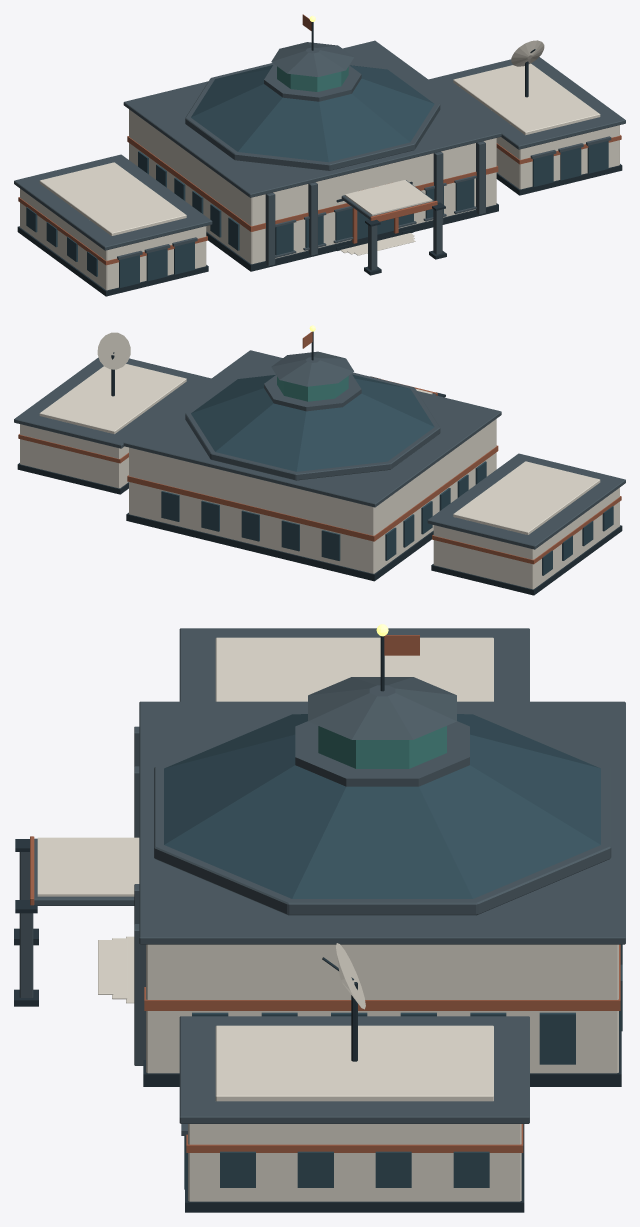
File: townHall.glb
3 renders of one model, top to bottom at view 1: azimuth 30°, elevation 25°; view 2: azimuth 150°, elevation 25°; view 3: azimuth 270°, elevation 25°, orthographic. The views are drawn at different scales.
Visible parts, largest first — view 1: townHall_chalk, townHall_slate, townHall_glass, townHall_slateDark, townHall_terracotta, townHall_teal; view 2: townHall_chalk, townHall_slate, townHall_glass, townHall_slateDark, townHall_terracotta, townHall_teal; view 3: townHall_chalk, townHall_slate, townHall_glass, townHall_terracotta, townHall_slateDark, townHall_teal.
Part boxes in pixels (bbox=[...]): townHall_chalk: bbox=[20, 40, 619, 290]; townHall_slate: bbox=[14, 40, 625, 270]; townHall_glass: bbox=[26, 65, 608, 287]; townHall_slateDark: bbox=[17, 22, 622, 296]; townHall_terracotta: bbox=[18, 14, 621, 265]; townHall_teal: bbox=[277, 66, 348, 91]; townHall_chalk: bbox=[20, 332, 619, 589]; townHall_slate: bbox=[14, 350, 625, 549]; townHall_glass: bbox=[161, 374, 613, 575]; townHall_slateDark: bbox=[17, 331, 622, 595]; townHall_terracotta: bbox=[18, 331, 621, 564]; townHall_teal: bbox=[277, 376, 348, 401]; townHall_chalk: bbox=[37, 637, 618, 1201]; townHall_slate: bbox=[19, 628, 625, 1135]; townHall_glass: bbox=[164, 714, 622, 1189]; townHall_terracotta: bbox=[30, 635, 620, 1152]; townHall_slateDark: bbox=[14, 636, 621, 1212]; townHall_teal: bbox=[318, 726, 446, 768].
Bounding box in the file's own units: 41.6 × 13.73 × 22.
